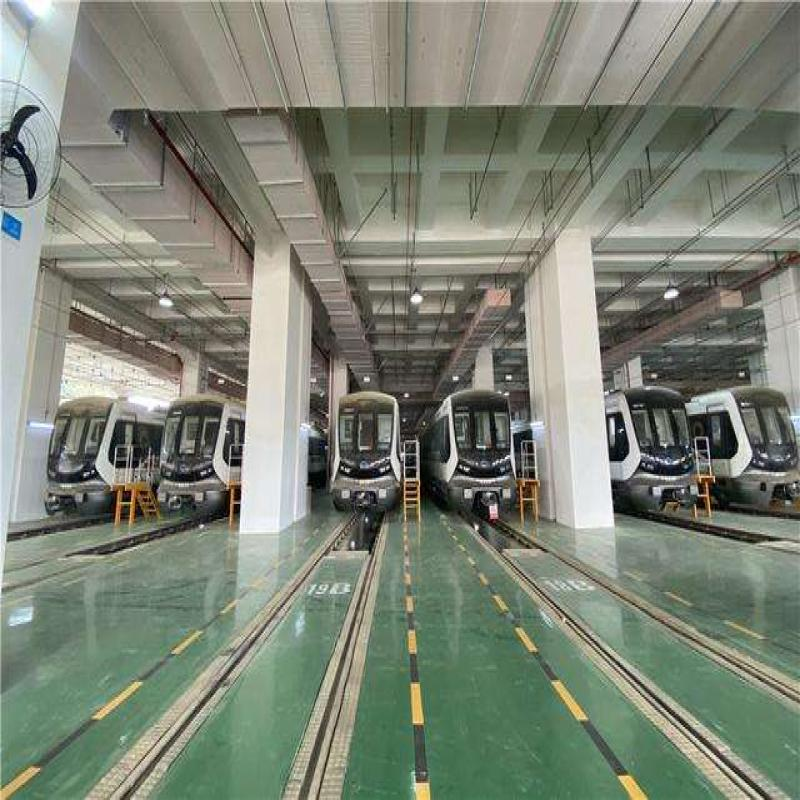train: (692, 376, 795, 516), (49, 395, 159, 517), (604, 385, 698, 522), (427, 395, 515, 513), (166, 395, 248, 511), (334, 394, 410, 509)
